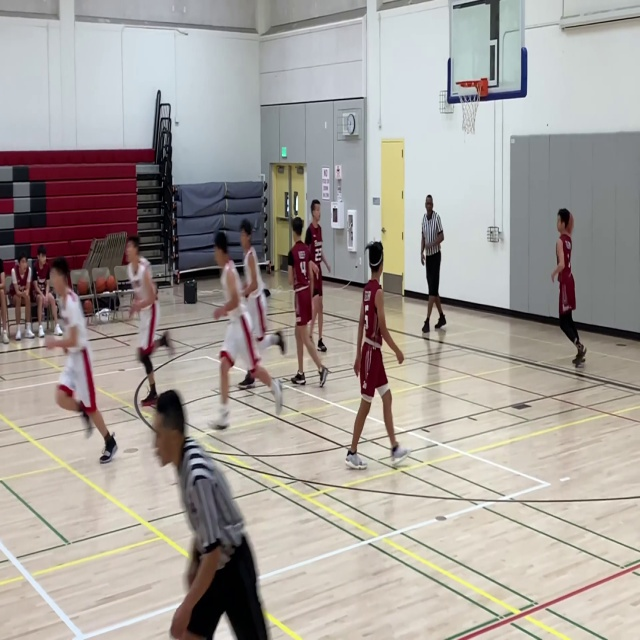Basketball: (94, 276, 107, 293), (105, 275, 117, 292), (77, 280, 88, 295), (83, 299, 93, 313)
